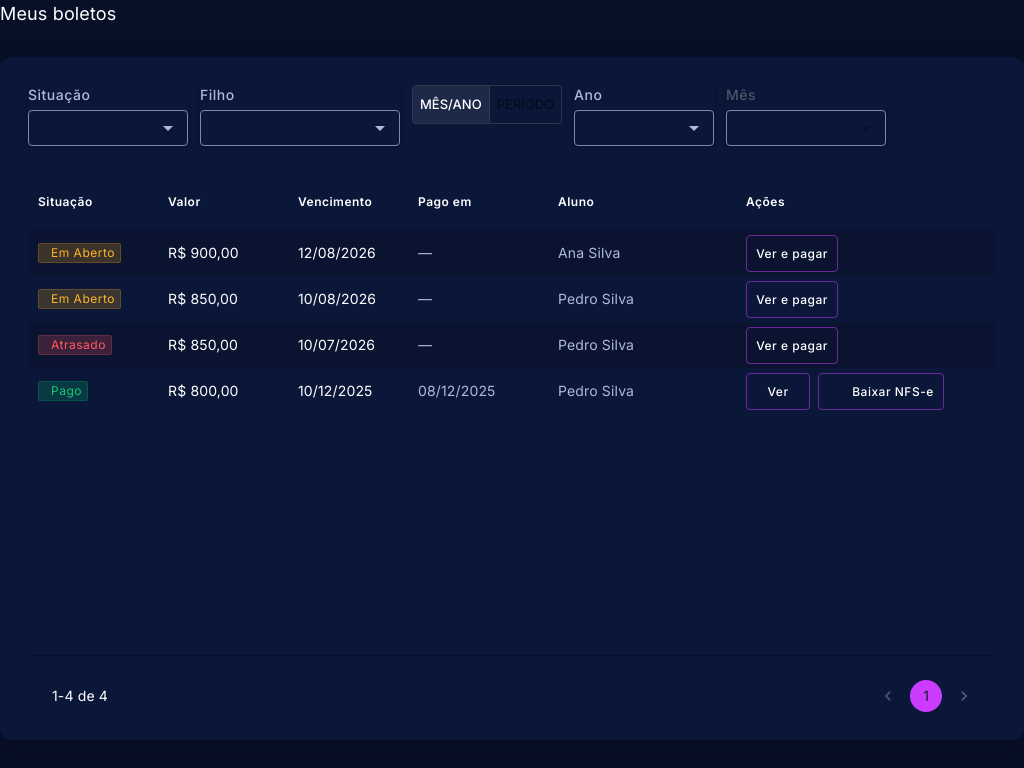
MyCharges › hides boleto, Pix and reissue in the detail of a paid boleto
The width and height of the screenshot is (1024, 768).
Click the button "Ver". click: click(778, 391)
box: [746, 373, 810, 410]
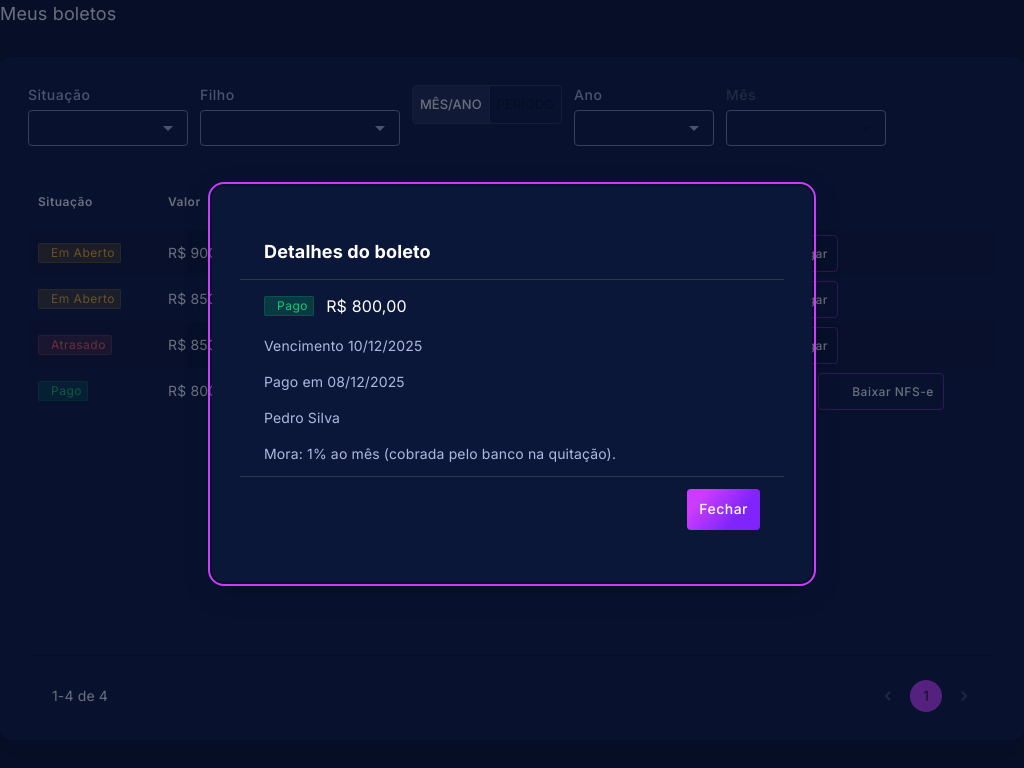
Expected: the heading "Detalhes do boleto" is shown, [264, 241, 431, 262]
Expected: the text "Pago" is shown, [277, 297, 308, 315]
